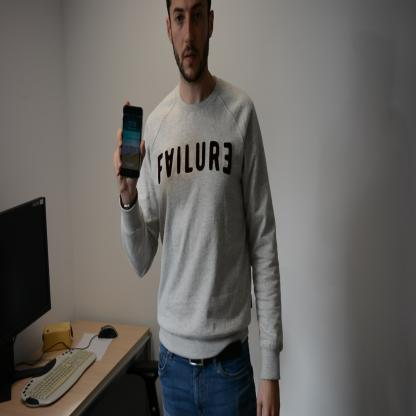smartphone: (118, 103, 144, 180)
